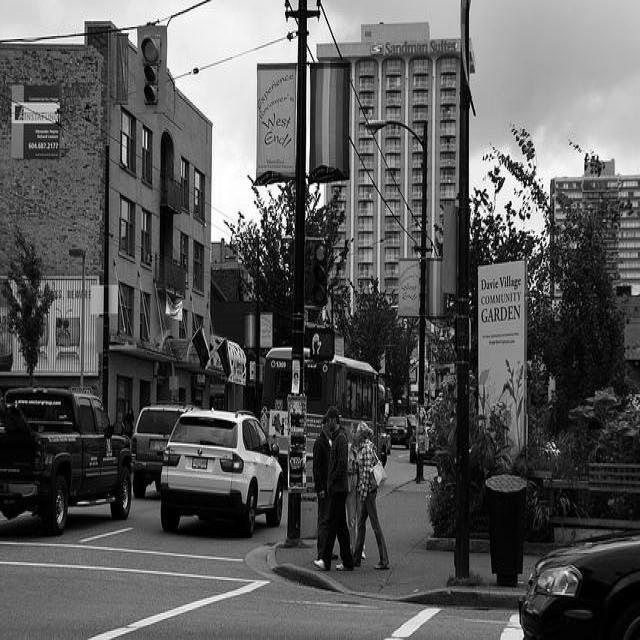vehicle: (0, 391, 133, 536), (160, 407, 286, 540), (261, 348, 387, 470), (518, 541, 640, 633), (129, 408, 183, 499), (409, 423, 436, 466), (385, 415, 413, 450), (377, 424, 390, 466), (406, 415, 416, 431), (417, 408, 427, 422)
